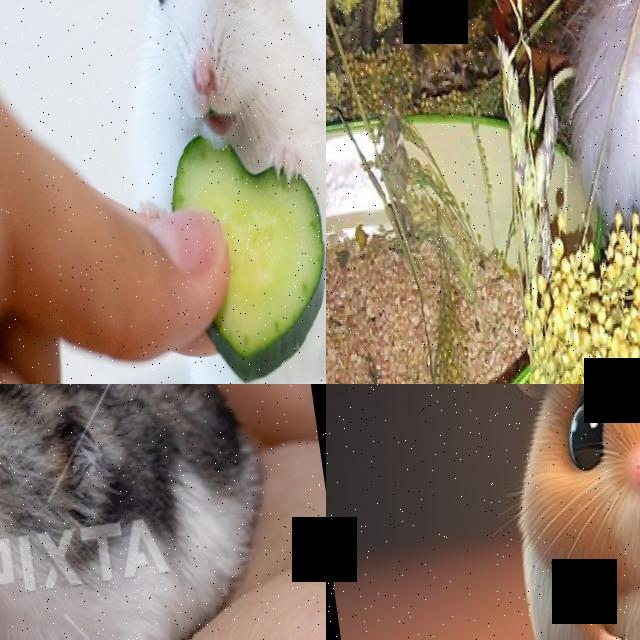hamster: (101, 0, 326, 384), (0, 384, 295, 640), (483, 384, 640, 640), (539, 0, 640, 235)
